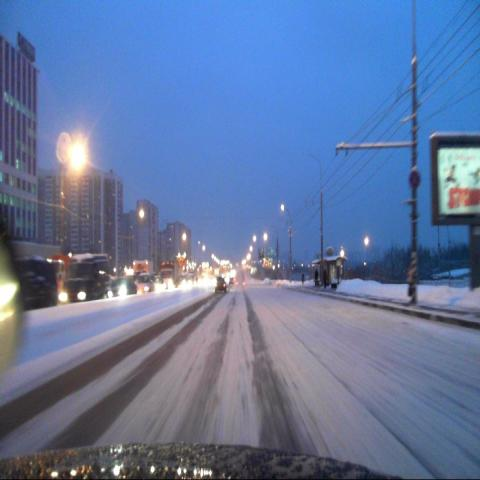3_27: (408, 163, 421, 188)
